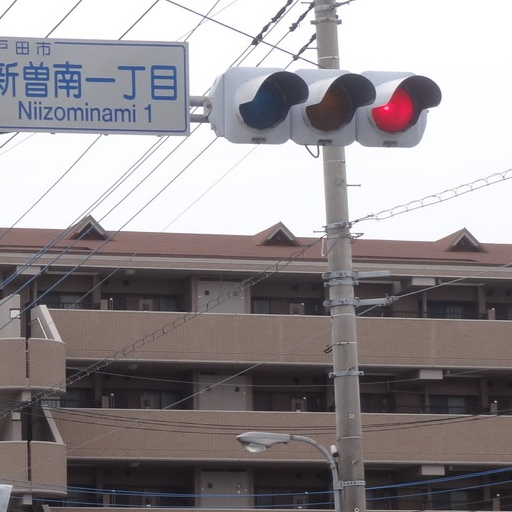Traffic_Signal_Red: (220, 60, 437, 149)
